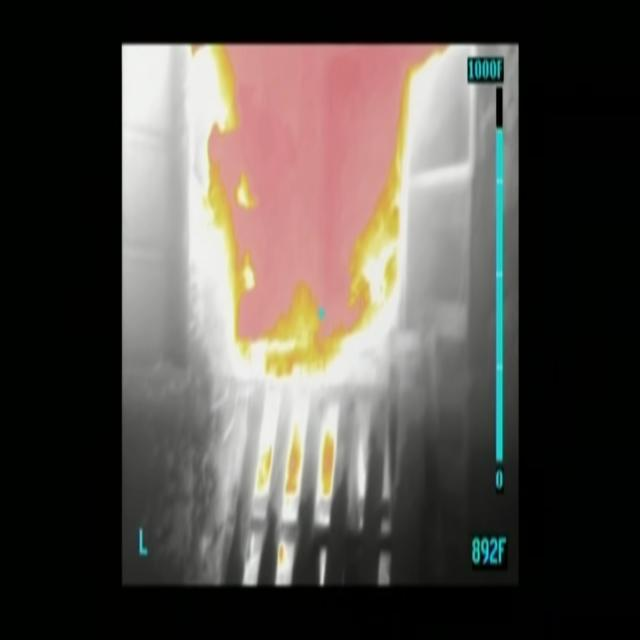fire: (202, 42, 453, 356)
